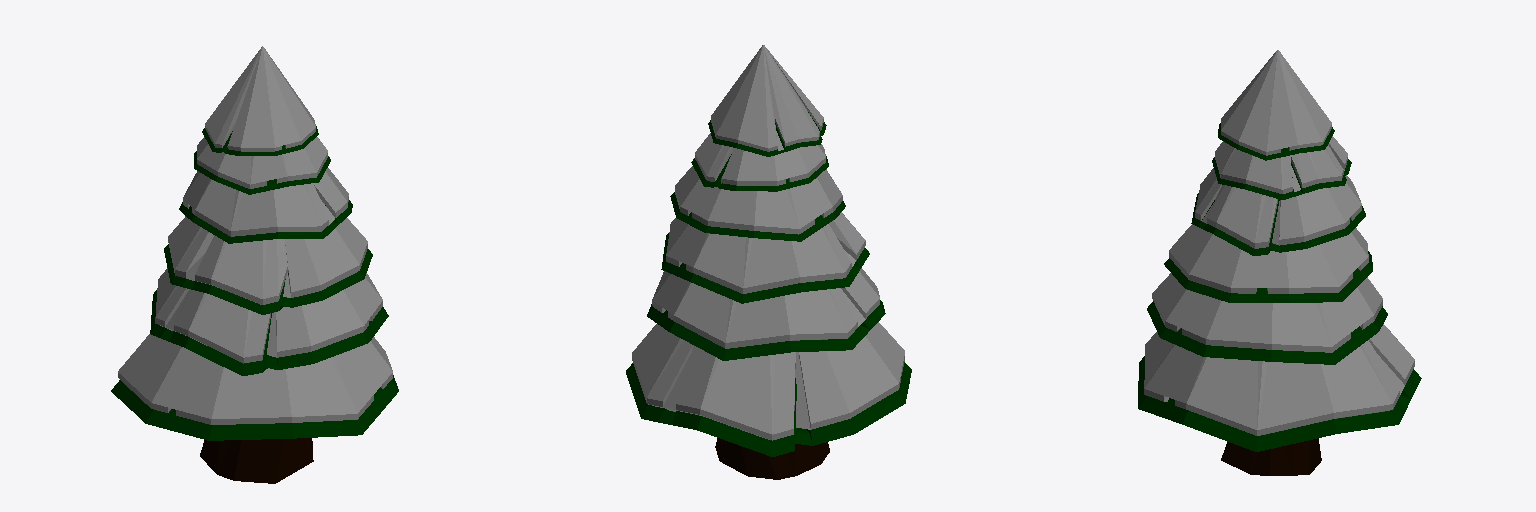
The model's file is tree.obj.
3 views of the same model, side by side, from view 1: azimuth 30°, elevation 25°; view 2: azimuth 150°, elevation 25°; view 3: azimuth 270°, elevation 25° (orthographic).
Parts seen in each view (by area): view 1: Cylinder; view 2: Cylinder; view 3: Cylinder.
Boxes of the visible parts, box(x1,y1,x2,y2) form: Cylinder: box(111, 46, 398, 483); Cylinder: box(626, 45, 911, 479); Cylinder: box(1138, 50, 1421, 475).
Bounding box in the file's own units: 13.67 × 21.99 × 13.56.